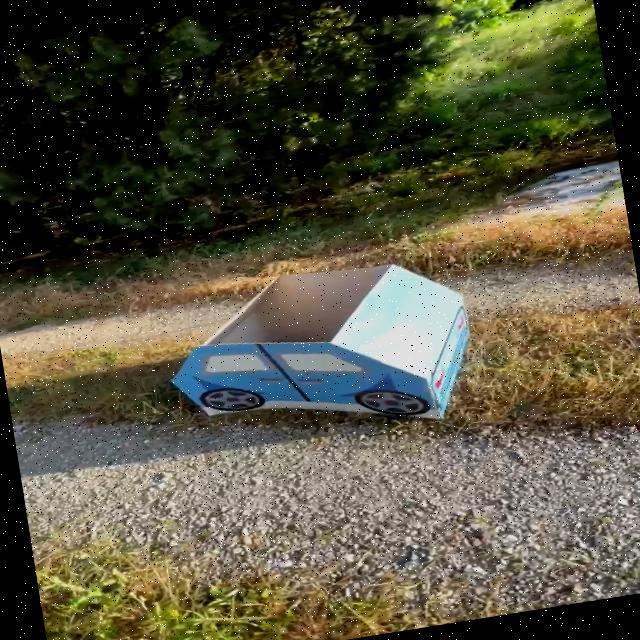blue_car: (129, 216, 560, 475)
